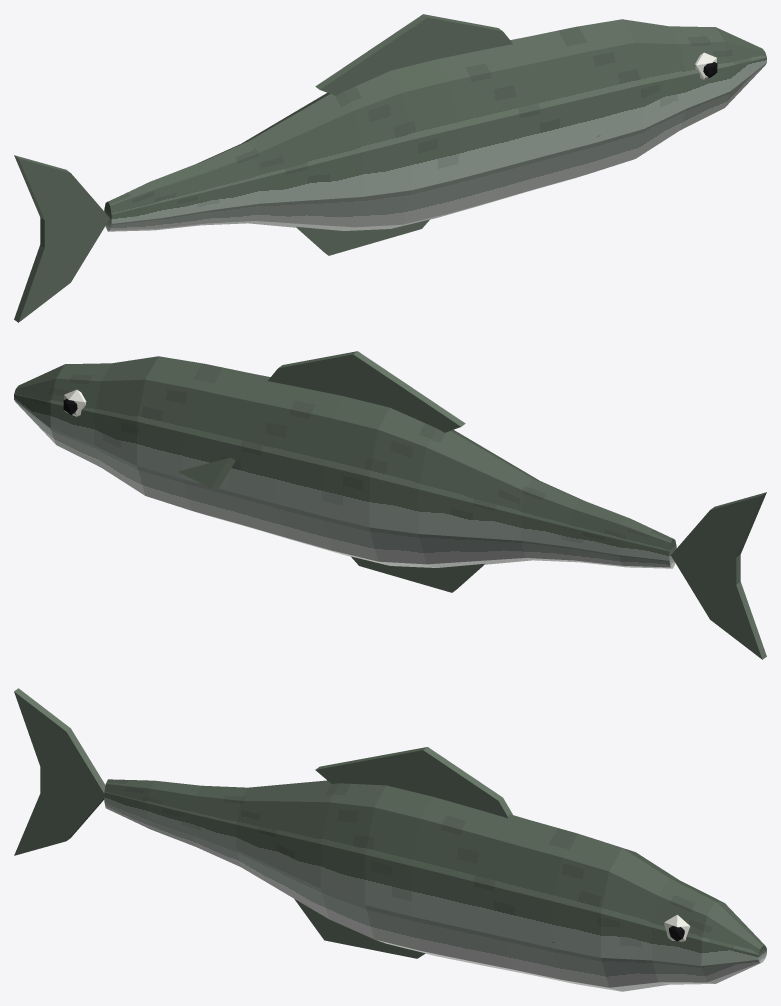
File: barramundi.glb
3 views of the same model, one above another, from view 1: azimuth 30°, elevation 25°; view 2: azimuth 150°, elevation 25°; view 3: azimuth 330°, elevation 25° (orthographic).
Parts seen in each view (by area): view 1: fish_barramundi; view 2: fish_barramundi; view 3: fish_barramundi.
Boxes of the visible parts, x1,y1,x2,y2 form: fish_barramundi: [14, 14, 766, 322]; fish_barramundi: [14, 351, 766, 659]; fish_barramundi: [14, 688, 766, 991].
Size of the model in its own units: 1.14 by 0.3129 by 0.1501.
4 materials, 1 textured.
